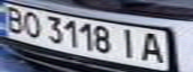1: (75, 20, 96, 51), (60, 18, 78, 48)
3: (39, 14, 66, 45)
8: (93, 24, 115, 55)
A: (136, 30, 166, 65)
B: (0, 4, 30, 34)
I: (115, 27, 142, 61)
O: (18, 9, 45, 38)
